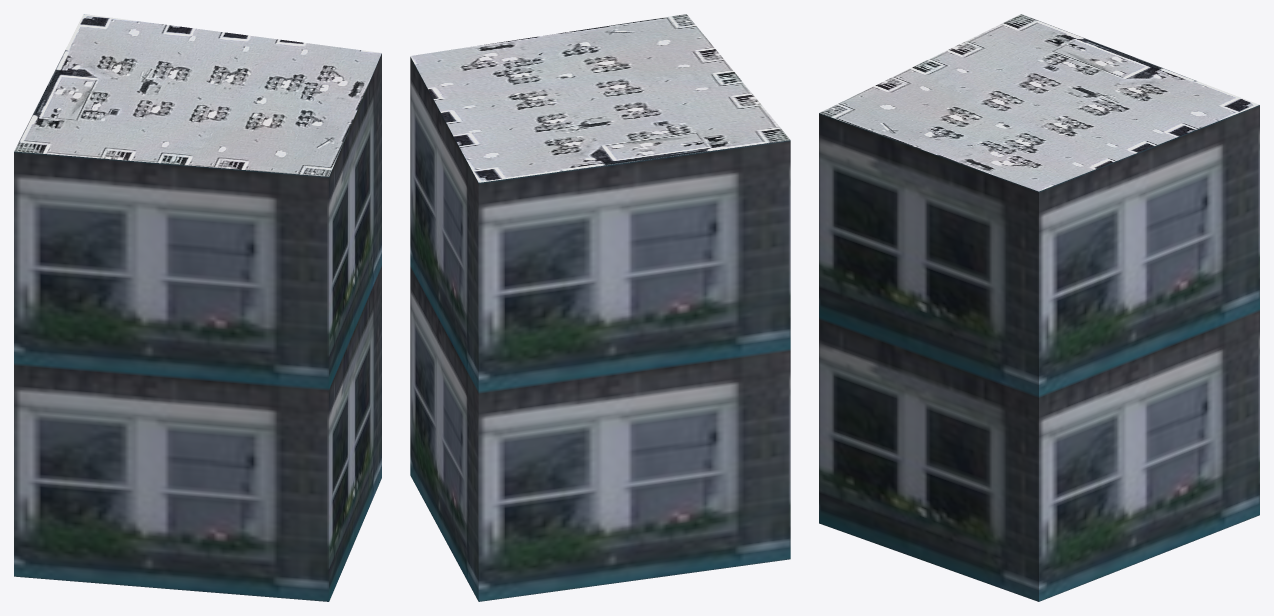
File: ResTex__4303.fbx
The picture shows the model from 3 angles, left to right: view 1: azimuth 30°, elevation 25°; view 2: azimuth 150°, elevation 25°; view 3: azimuth 270°, elevation 25°; orthographic projection. The views are drawn at different scales.
Parts seen in each view (by area): view 1: CityEngineMaterial_11_m, CityEngineMaterial_8_m; view 2: CityEngineMaterial_11_m, CityEngineMaterial_8_m; view 3: CityEngineMaterial_11_m, CityEngineMaterial_8_m.
Part boxes in pixels (x1,y1,x2,y2): CityEngineMaterial_11_m: (14, 53, 381, 601); CityEngineMaterial_8_m: (14, 14, 381, 176); CityEngineMaterial_11_m: (410, 57, 790, 601); CityEngineMaterial_8_m: (410, 14, 790, 182); CityEngineMaterial_11_m: (819, 105, 1259, 601); CityEngineMaterial_8_m: (819, 14, 1259, 191).
Bounding box in the file's own units: 5.57 × 6 × 5.84.
Materials: 2 (2 with a texture image).
